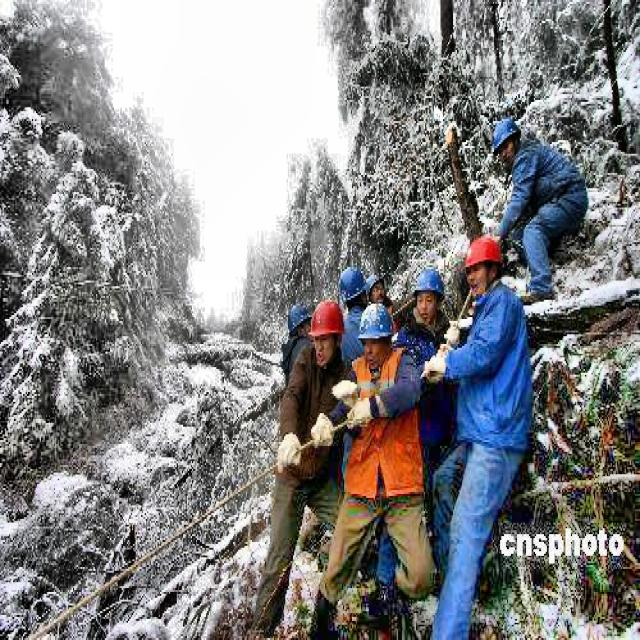helmet: (311, 296, 346, 373), (463, 235, 507, 294), (409, 267, 446, 331), (358, 302, 394, 365), (330, 264, 368, 308), (492, 111, 522, 166), (286, 302, 312, 346), (364, 271, 391, 304)
